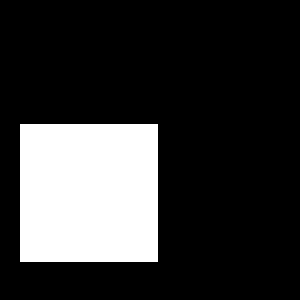circle: (20, 124, 158, 262), (90, 241, 99, 250)
